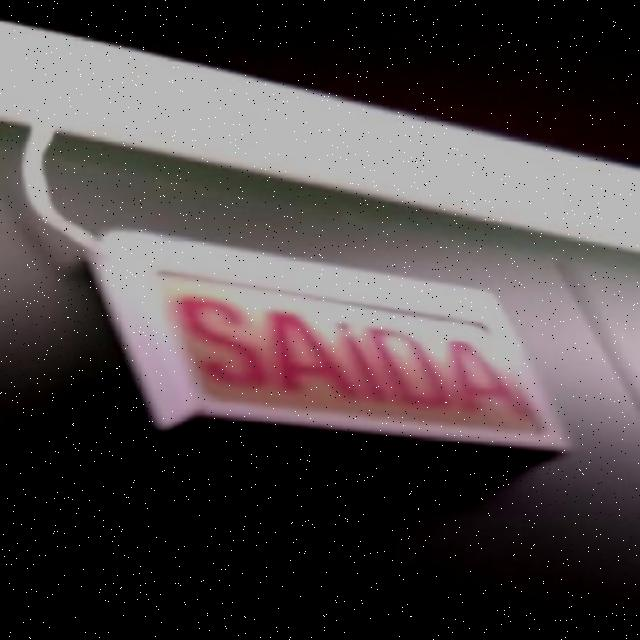emergency_exit: (85, 228, 570, 454)
